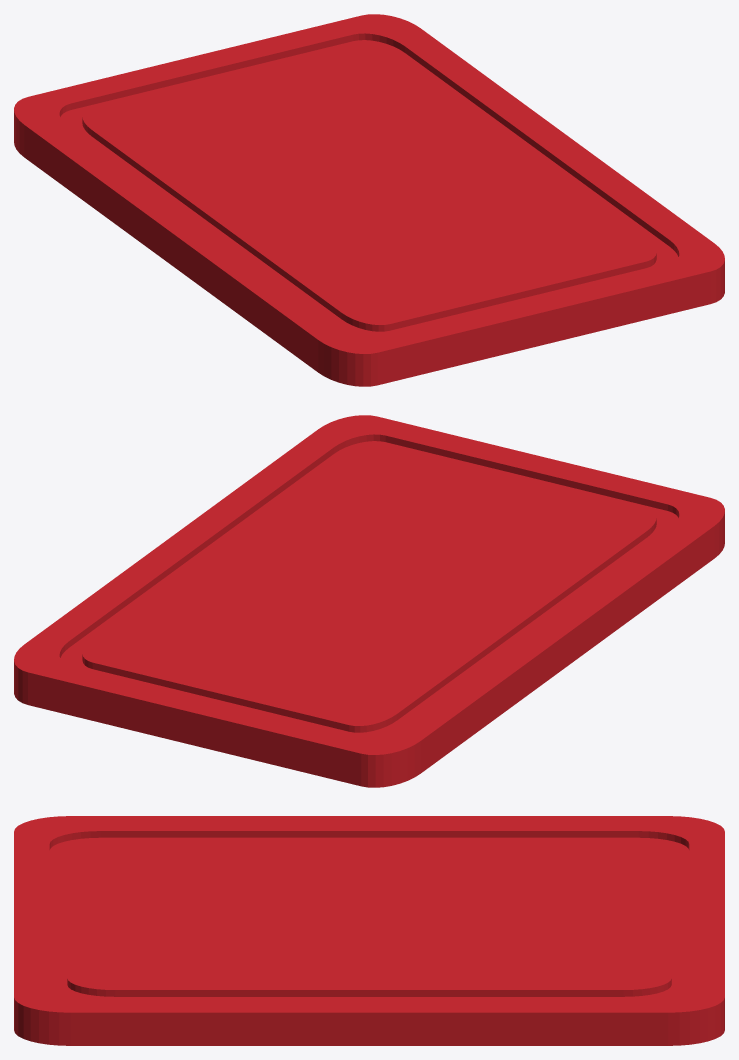
File: snijplank.glb
The picture shows the model from 3 angles, top to bottom: view 1: azimuth 30°, elevation 25°; view 2: azimuth 150°, elevation 25°; view 3: azimuth 270°, elevation 25°; orthographic projection.
Visible parts, largest first — view 1: Cube; view 2: Cube; view 3: Cube.
Part boxes in pixels (x1,y1,x2,y2): Cube: [14, 14, 724, 386]; Cube: [14, 415, 724, 787]; Cube: [14, 816, 724, 1045].
Bounding box in the file's own units: 1.31 × 0.1033 × 2.
